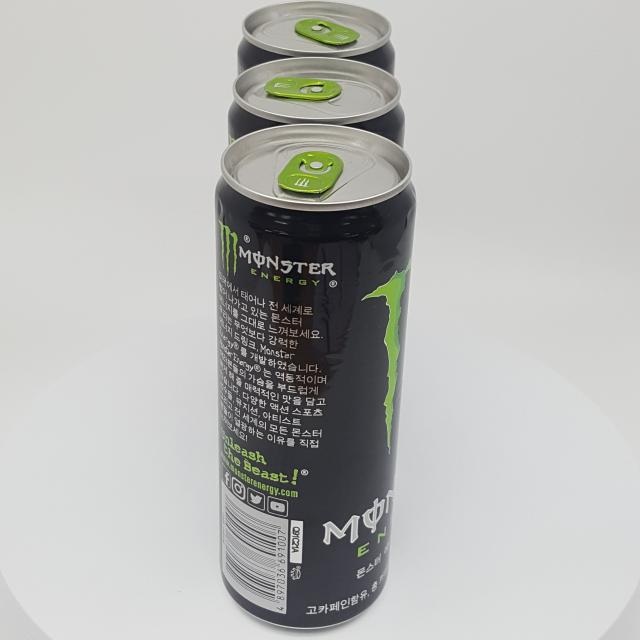--------355ML: (215, 123, 416, 629)
